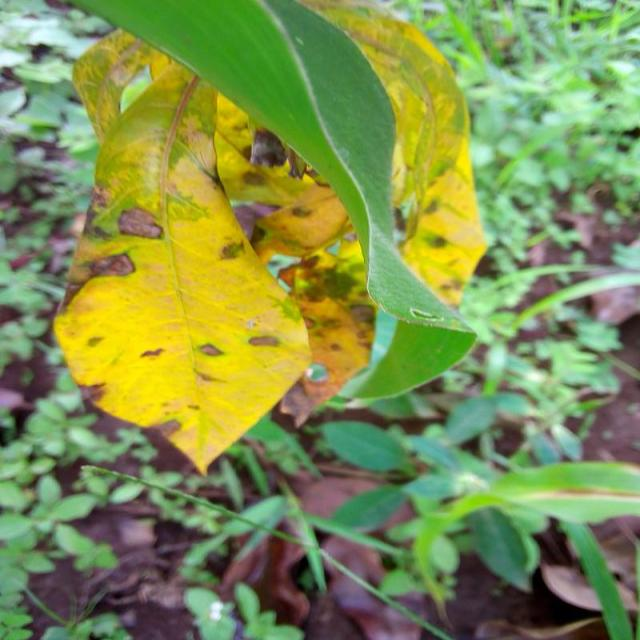cassava leaf: (58, 0, 486, 338), (53, 43, 314, 476)
